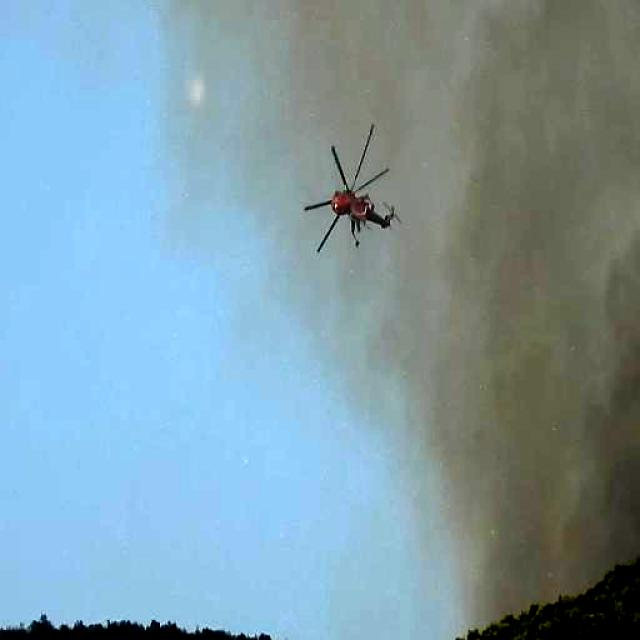drone: (291, 120, 406, 269)
